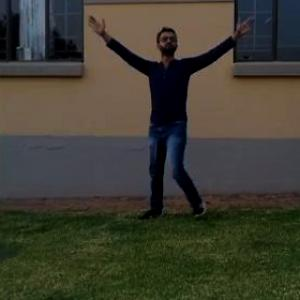takeoff: (70, 12, 248, 242)
